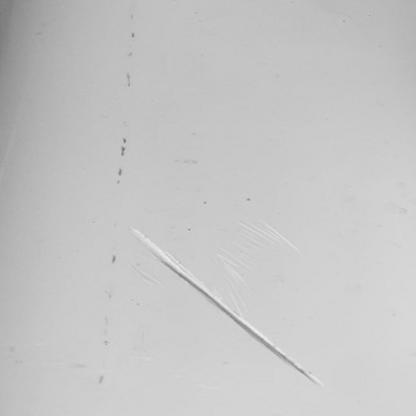sunshang: (134, 228, 320, 385)
